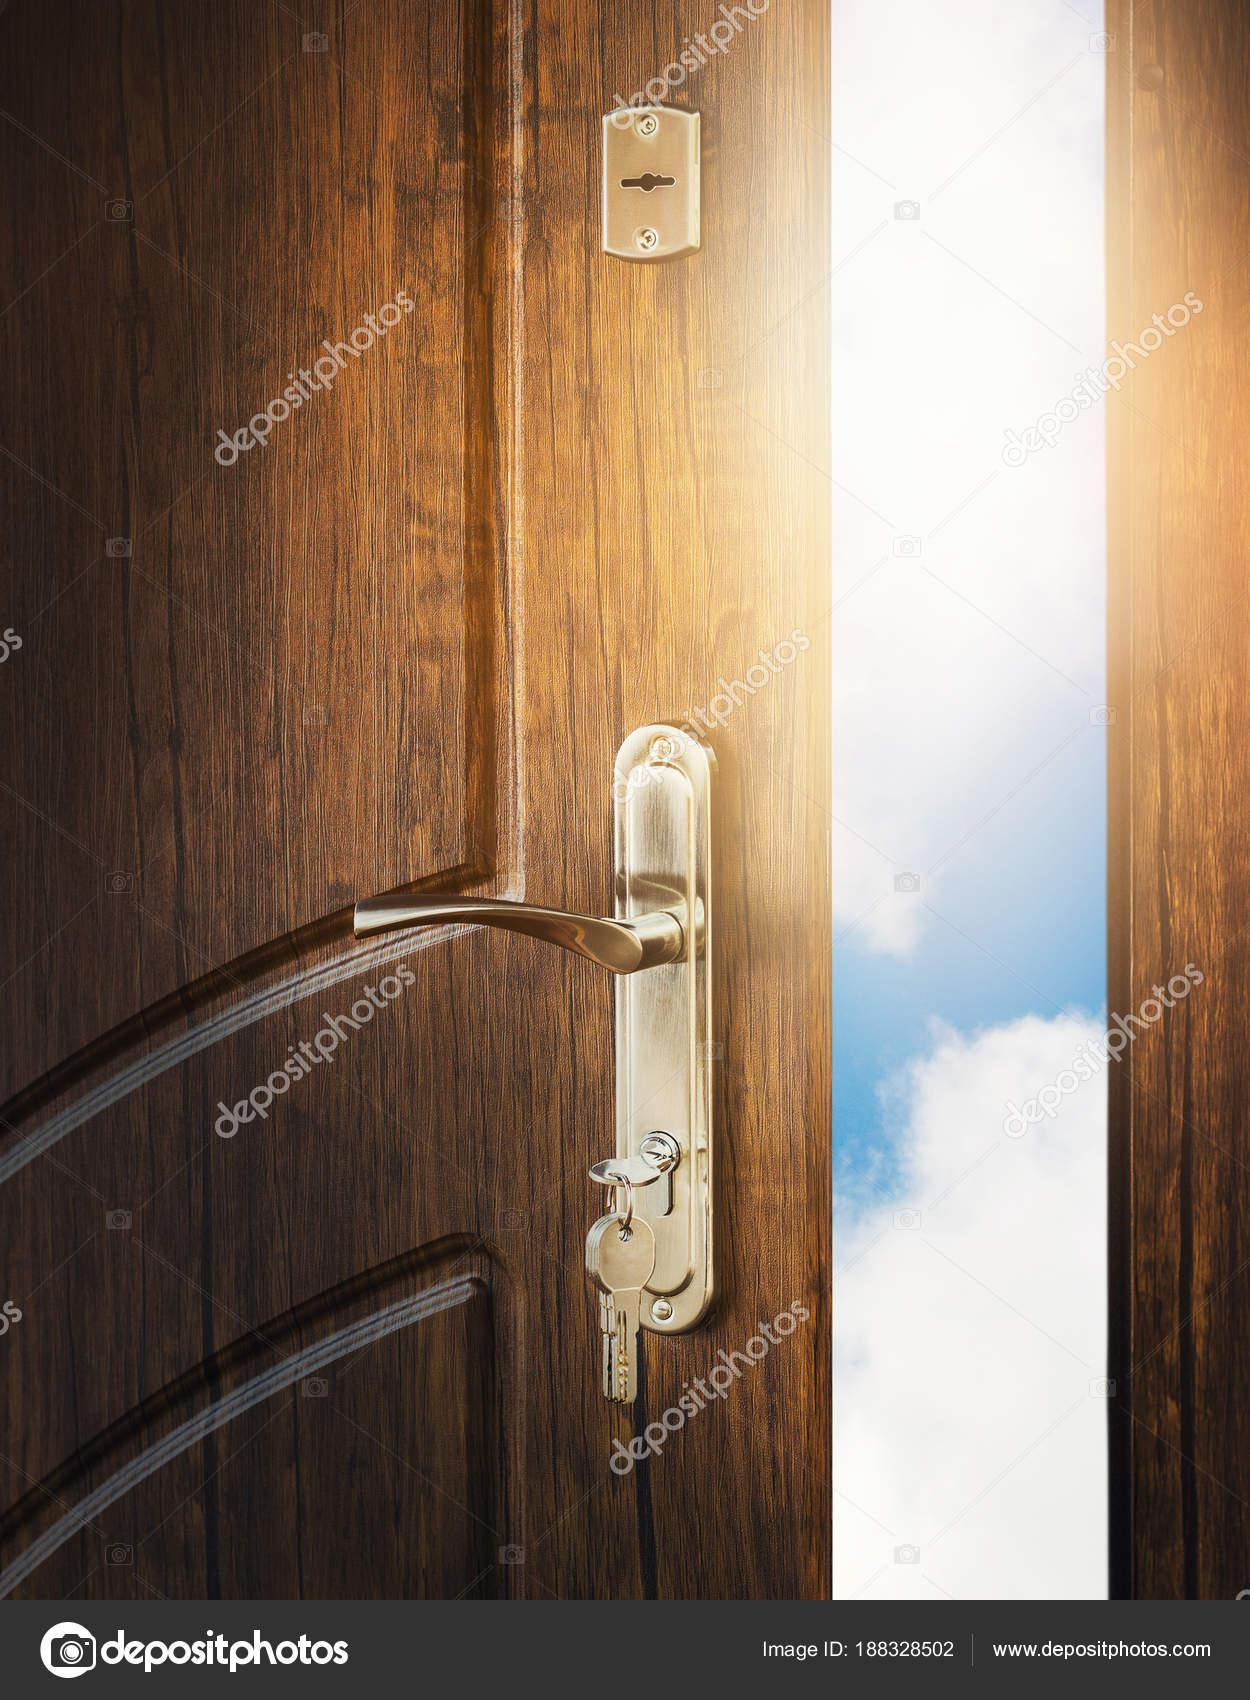doorhandle: (348, 740, 817, 1056)
